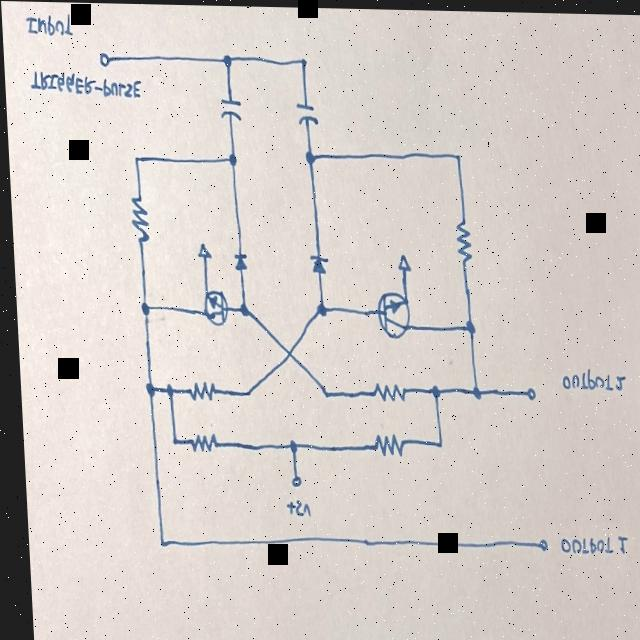capacitor: (291, 96, 320, 128), (214, 94, 246, 121)
diode: (304, 249, 327, 277), (227, 248, 246, 274)
ground: (389, 247, 410, 275), (191, 239, 210, 263)
junction: (304, 298, 327, 320), (131, 297, 150, 321), (275, 341, 293, 365), (231, 298, 248, 321), (311, 382, 330, 402), (461, 379, 479, 400), (138, 376, 153, 400), (217, 49, 235, 69), (421, 380, 438, 401), (221, 148, 238, 169), (298, 148, 315, 169), (158, 376, 172, 400), (458, 316, 474, 337), (279, 434, 295, 455), (295, 49, 310, 71), (148, 533, 163, 553), (427, 432, 440, 452), (448, 145, 461, 165), (235, 383, 248, 402), (128, 151, 140, 171), (163, 433, 175, 451)
resistor: (126, 189, 146, 243), (364, 379, 407, 403), (366, 429, 399, 458), (180, 378, 215, 403), (181, 429, 213, 456), (452, 217, 469, 263)
terminal: (514, 379, 541, 401), (279, 468, 301, 490), (525, 531, 548, 552), (96, 50, 109, 68)
text: (26, 71, 140, 98), (551, 526, 624, 555), (553, 364, 622, 394), (23, 9, 73, 38), (278, 498, 305, 518)
transistor: (369, 288, 411, 339), (197, 286, 225, 326)
